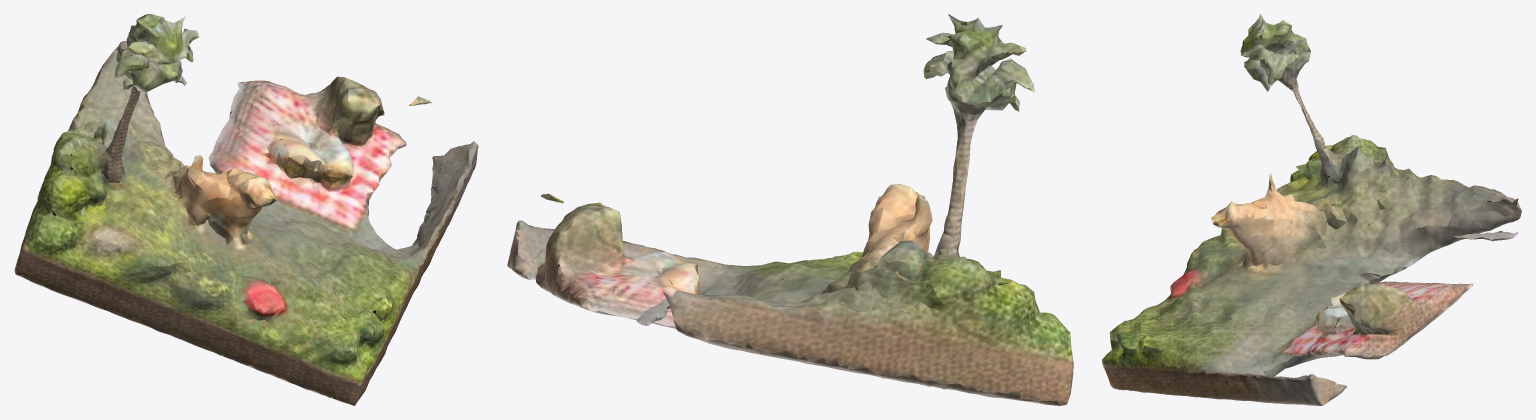
3 renders of one model, left to right at view 1: azimuth 30°, elevation 25°; view 2: azimuth 150°, elevation 25°; view 3: azimuth 270°, elevation 25°, orthographic. The views are drawn at different scales.
Visible parts, largest first — view 1: world; view 2: world; view 3: world.
Boxes of the visible parts, x1,y1,x2,y2 form: world: (14, 14, 478, 405); world: (507, 14, 1073, 405); world: (1102, 14, 1521, 405).
Size of the model in its own units: 1 by 0.7447 by 0.8843.
Materials: 1 (1 with a texture image).
